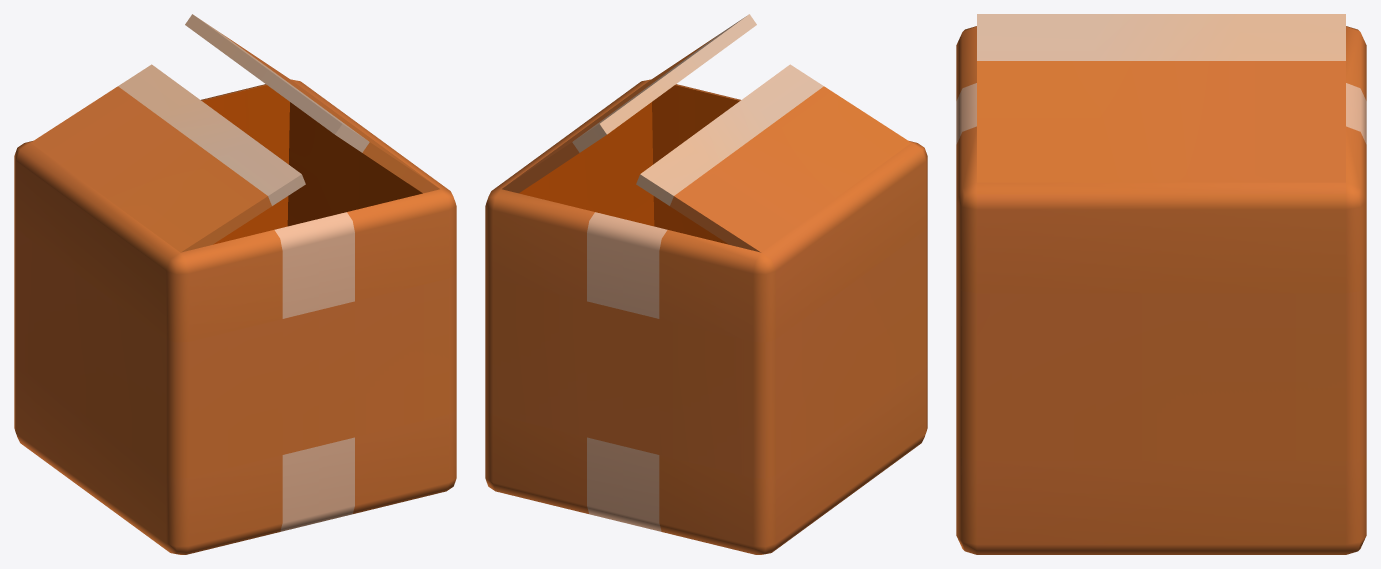
3 views of the same model, side by side, from view 1: azimuth 30°, elevation 25°; view 2: azimuth 150°, elevation 25°; view 3: azimuth 270°, elevation 25° (orthographic). The views are drawn at different scales.
Parts seen in each view (by area): view 1: polySurface307, polySurface305, polySurface306; view 2: polySurface307, polySurface305, polySurface306; view 3: polySurface307, polySurface306.
Part boxes in pixels (x1,y1,x2,y2): polySurface307: [14, 79, 456, 554]; polySurface305: [30, 64, 305, 252]; polySurface306: [185, 14, 439, 193]; polySurface307: [485, 79, 927, 554]; polySurface305: [636, 64, 911, 252]; polySurface306: [502, 14, 756, 193]; polySurface307: [956, 26, 1366, 554]; polySurface306: [977, 14, 1345, 182].
Size of the model in its own units: 126 by 164 by 126.
